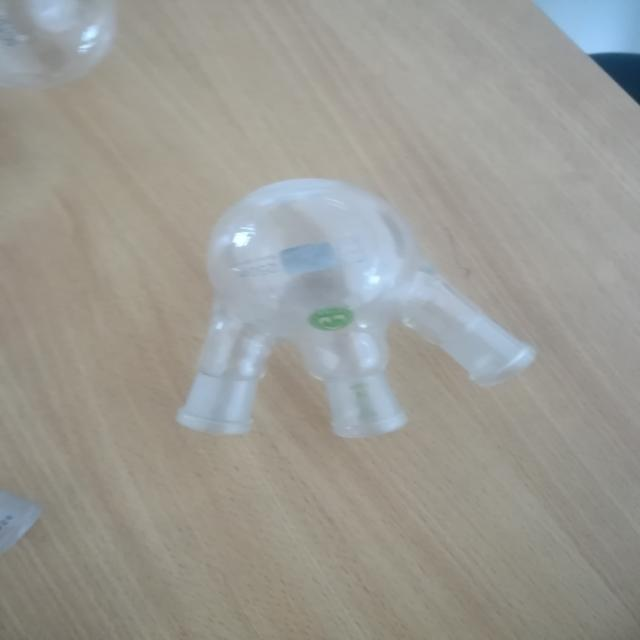Round_Bottom_Flask_Borosilicate_Glass_3_Neck: (153, 157, 552, 472)
